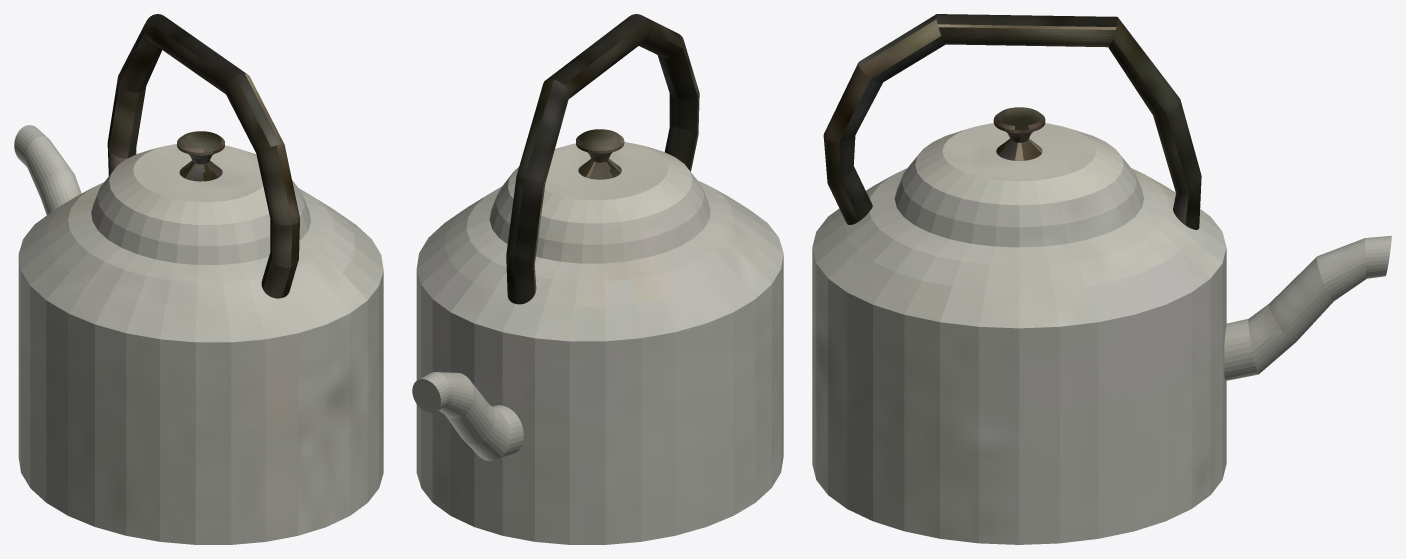
Rendered from kettle.fbx.
3 renders of one model, left to right at view 1: azimuth 30°, elevation 25°; view 2: azimuth 150°, elevation 25°; view 3: azimuth 270°, elevation 25°, orthographic. The views are drawn at different scales.
Visible parts, largest first — view 1: Cylinder; view 2: Cylinder; view 3: Cylinder.
Boxes of the visible parts, <box> form: Cylinder: <box>14,14,383,544</box>; Cylinder: <box>412,14,783,544</box>; Cylinder: <box>812,14,1391,544</box>.
Bounding box in the file's own units: 19.2 × 29.09 × 24.85.
1 material, 1 textured.
